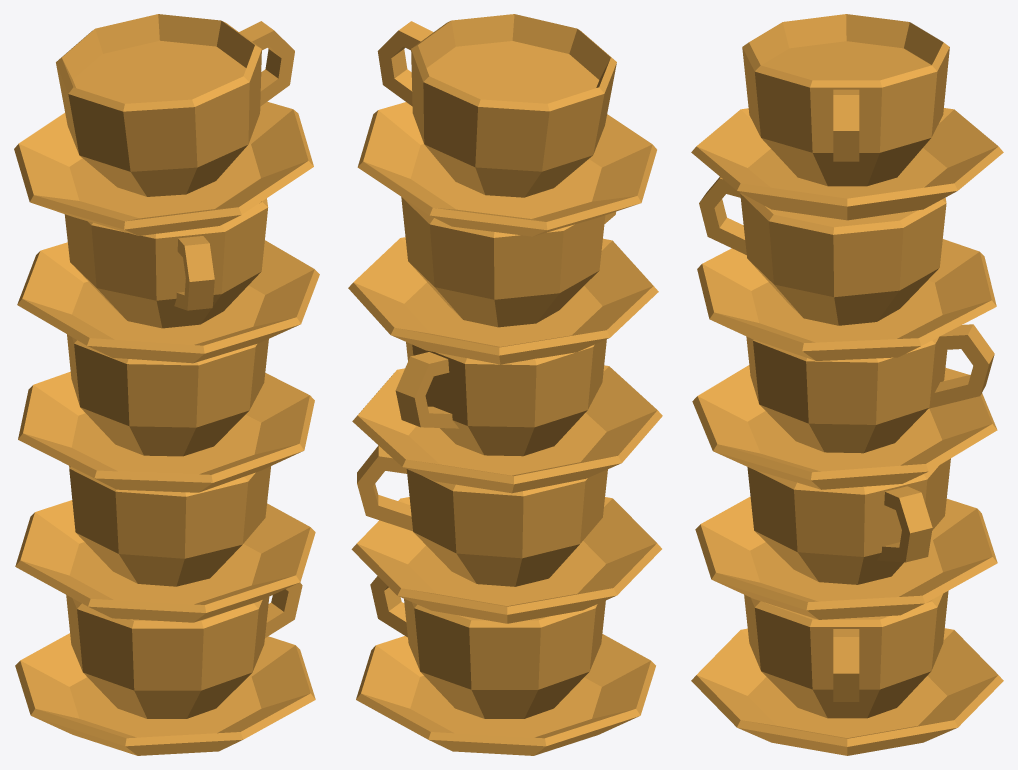
The model's file is 050_Coffee.fbx.
3 renders of one model, left to right at view 1: azimuth 30°, elevation 25°; view 2: azimuth 150°, elevation 25°; view 3: azimuth 270°, elevation 25°, orthographic.
Parts seen in each view (by area): view 1: Coffee; view 2: Coffee; view 3: Coffee.
Boxes of the visible parts, x1,y1,x2,y2 form: Coffee: [14, 14, 319, 755]; Coffee: [348, 14, 662, 755]; Coffee: [691, 14, 1003, 755].
Size of the model in its own units: 41.55 by 97.19 by 41.4.
